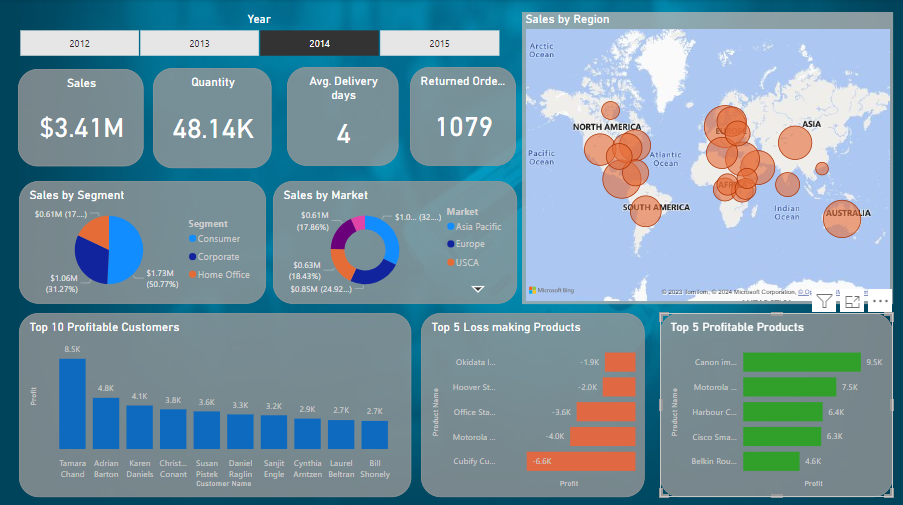

Layout of this report page (visuals, bound fields, positions):
{"tool":"powerbi","page":{"name":"Page 1","canvas":[1280,720],"ordinal":0},"visuals":[{"type":"card","title":"Sales","fields":{"Values":["Orders.Sales"]},"box":[25,99.7,178.3,138.3],"z":0},{"type":"card","title":"Quantity","fields":{"Values":["Orders.Quantity"]},"box":[216.7,98,168.3,141.7],"z":1000},{"type":"card","title":"Avg. Delivery days","fields":{"Values":["Orders.Delivery Days"]},"box":[406.7,96.3,158.3,140],"z":2000},{"type":"slicer","title":"Year","fields":{"Values":["Orders.Year"]},"box":[2.8,18.4,728.5,69.4],"z":3000},{"type":"card","title":"Returned Orders","fields":{"Values":["Returns.Return Orders"]},"box":[581.7,96.3,150,140],"z":4000},{"type":"map","fields":{"Category":["Orders.Region"],"Size":["Orders.Sales"]},"box":[739.8,18.4,525.8,413.9],"z":5000},{"type":"clusteredBarChart","title":"Top 6 Profit Products","fields":{"Category":["Orders.Product Name"],"Y":["Orders.Profit"]},"box":[935.4,445,330.2,260.8],"z":6000},{"type":"clusteredBarChart","title":"Top 6 Loss Products ","fields":{"Category":["Orders.Product Name"],"Y":["Orders.Profit"]},"box":[596.7,445,317.5,260.8],"z":7000},{"type":"donutChart","fields":{"Y":["Orders.Sales"],"Category":["Orders.Market"]},"box":[386.5,258,345.8,174.3],"z":8000},{"type":"pieChart","fields":{"Category":["Orders.Segment"],"Y":["Orders.Sales"]},"box":[26.5,258,350.1,174.3],"z":9000},{"type":"columnChart","title":"Top 10 Profitable Customers","fields":{"Category":["Orders.Customer Name"],"Y":["Orders.Profit"]},"box":[26.9,445,555.6,260.8],"z":10000}]}

Visuals, with their boxes in screenshot pixels (x1, y1, x2, y2), scaled from the page's 1280x720 canvas onto the 903x505 screenshot:
"Sales" card: [left=18, top=70, right=143, bottom=167]
"Quantity" card: [left=153, top=69, right=272, bottom=168]
"Avg. Delivery days" card: [left=287, top=68, right=399, bottom=166]
"Year" slicer: [left=2, top=13, right=516, bottom=62]
"Returned Orders" card: [left=410, top=68, right=516, bottom=166]
map - Orders.Region x Orders.Sales: [left=522, top=13, right=893, bottom=303]
"Top 6 Profit Products" clusteredBarChart: [left=660, top=312, right=893, bottom=495]
"Top 6 Loss Products " clusteredBarChart: [left=421, top=312, right=645, bottom=495]
donutChart - Orders.Sales x Orders.Market: [left=273, top=181, right=517, bottom=303]
pieChart - Orders.Segment x Orders.Sales: [left=19, top=181, right=266, bottom=303]
"Top 10 Profitable Customers" columnChart: [left=19, top=312, right=411, bottom=495]
